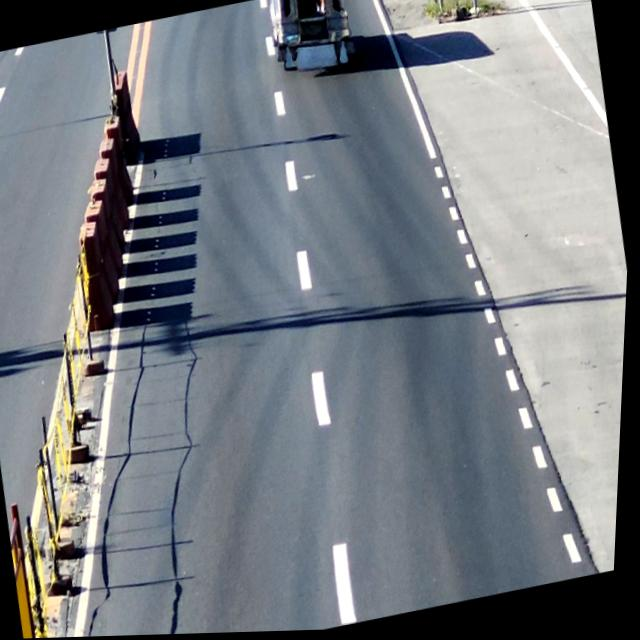Jeep: (260, 0, 358, 77)
